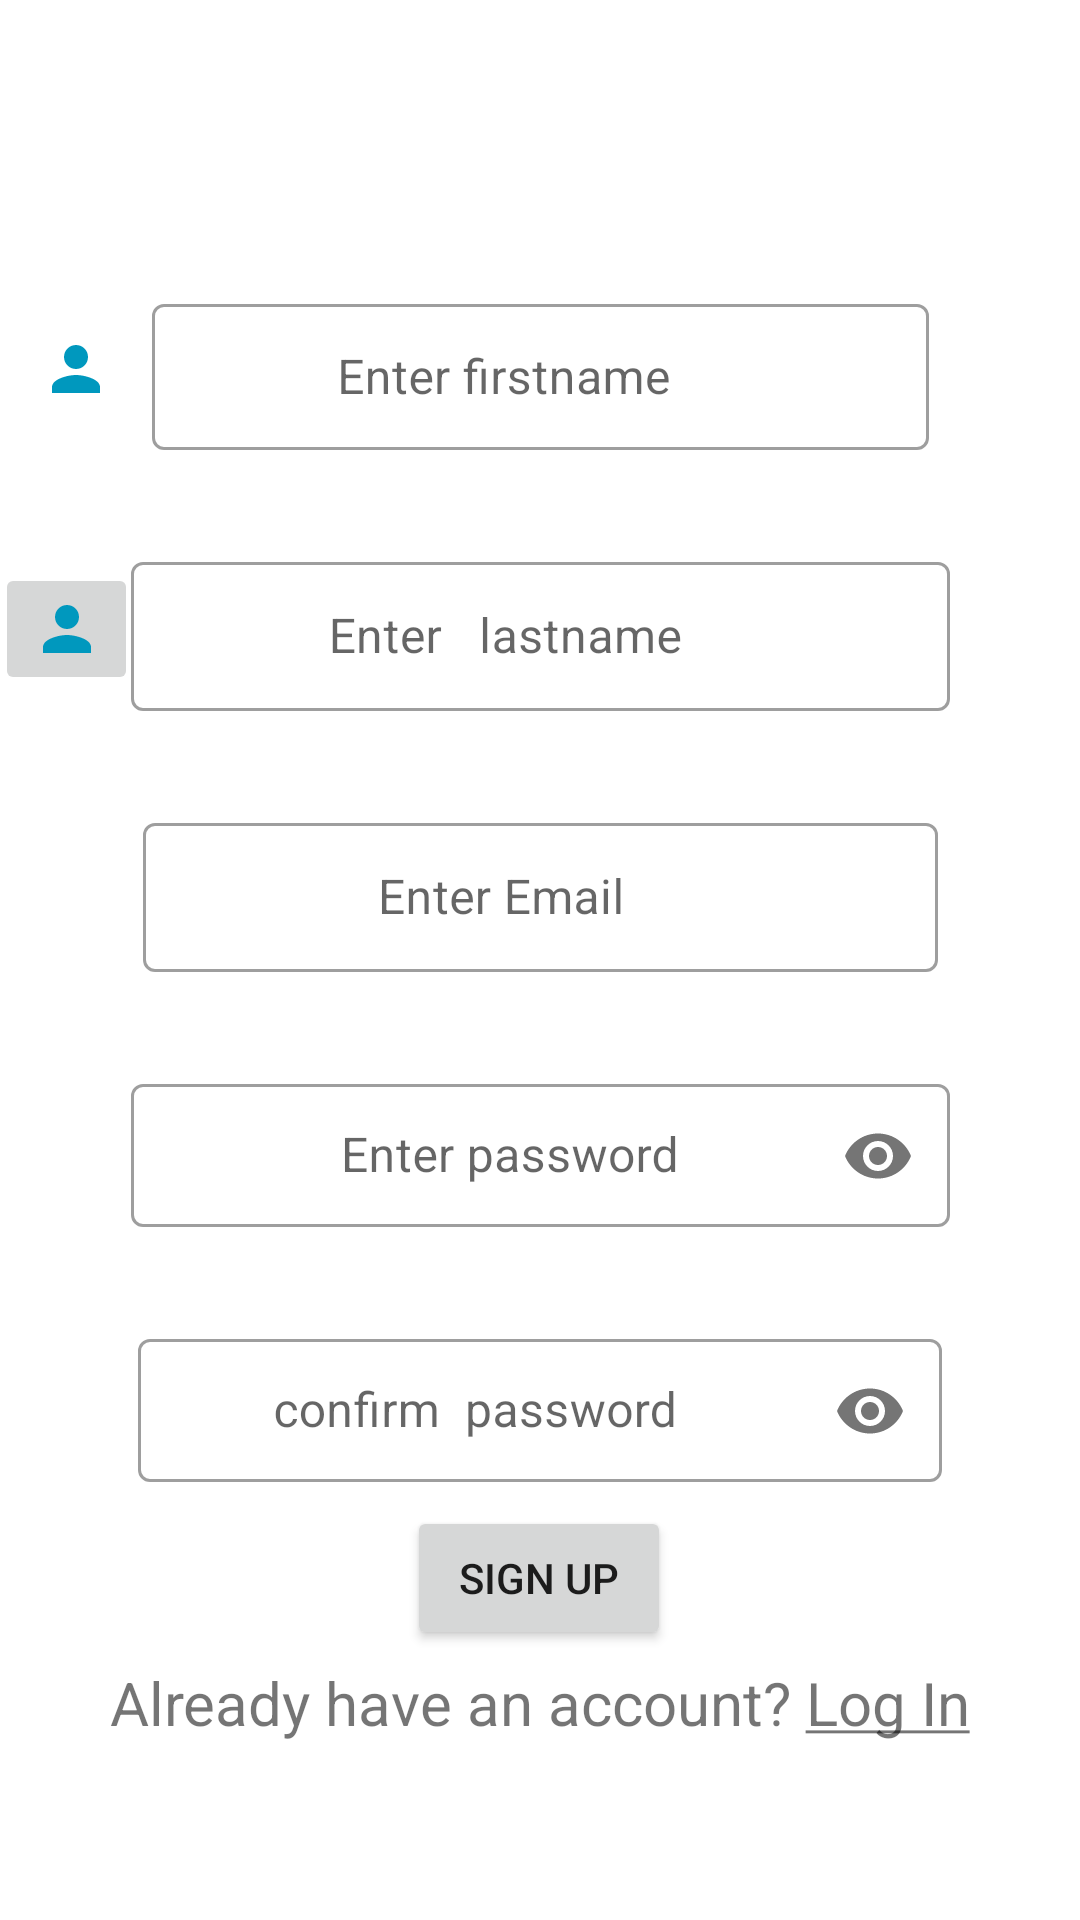

Locate icon controls on the screen. Image size 1080 × 1920, boxes as (x1=x1, y1=y1, x2=x2, y2=y2).
person: (x1=52, y1=345, x2=100, y2=393), (x1=7, y1=581, x2=126, y2=677)
